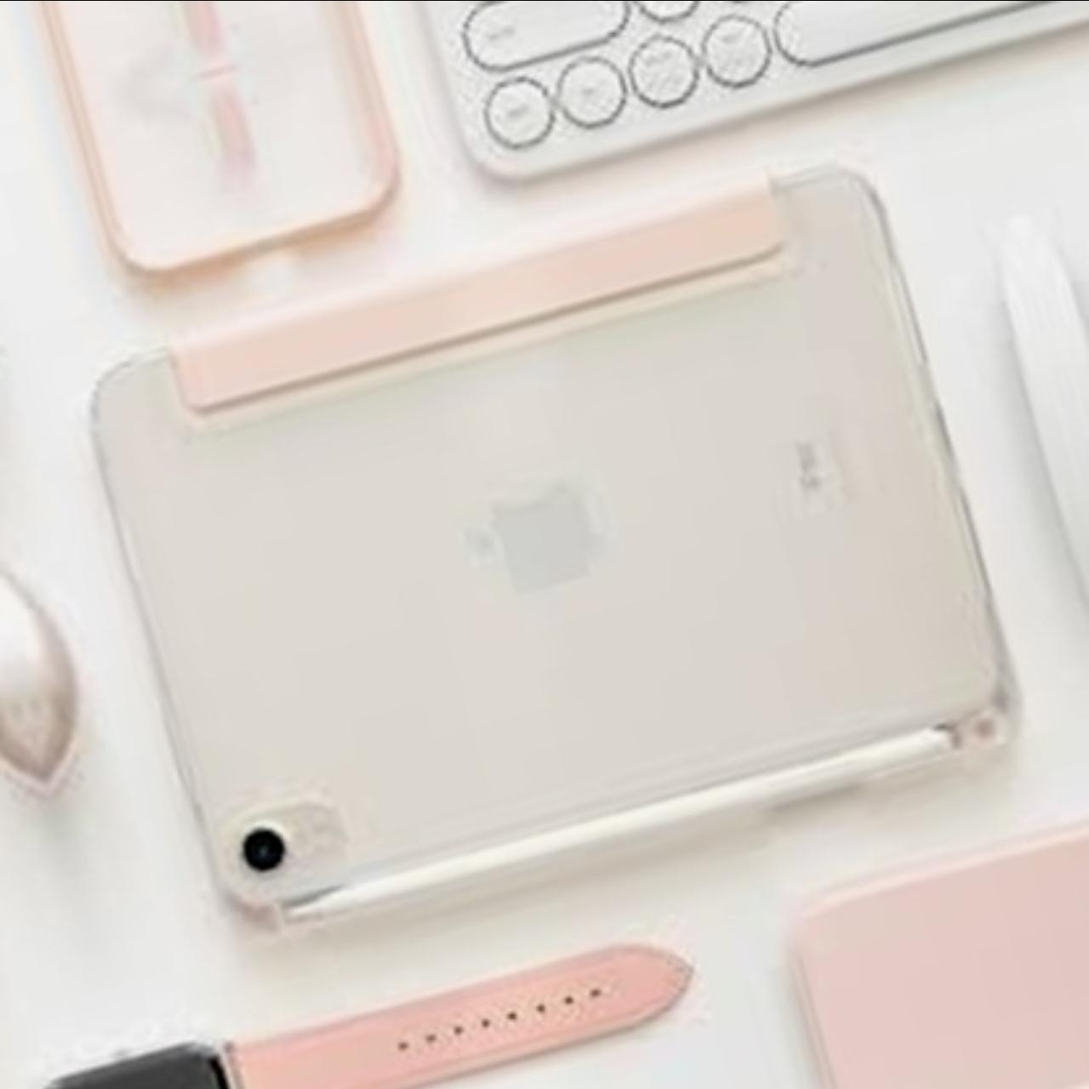Tablet_PC: (53, 149, 1050, 971)
